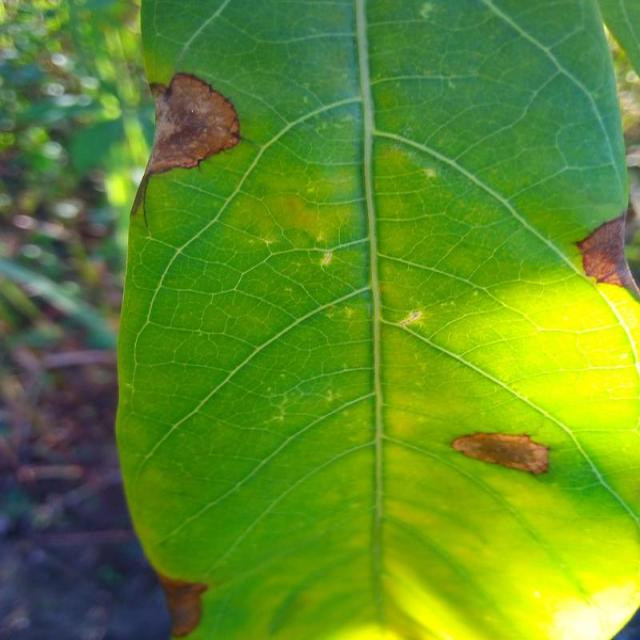cassava leaf: (114, 0, 638, 638)
